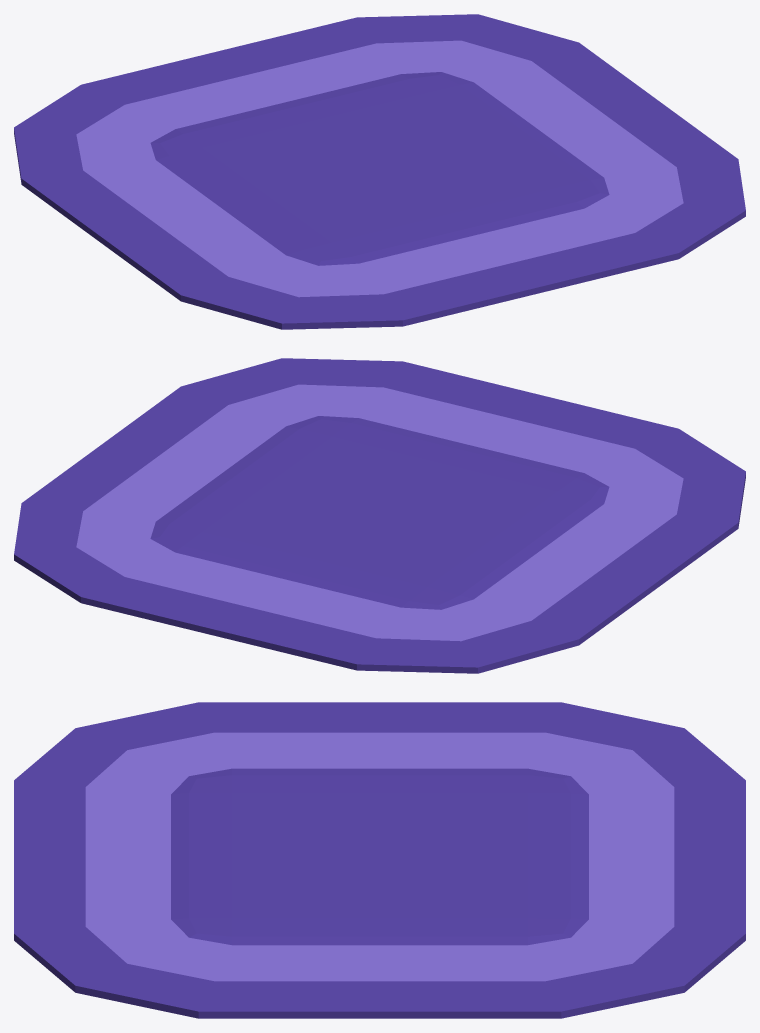
File: Rug_Small.fbx
3 views of the same model, one above another, from view 1: azimuth 30°, elevation 25°; view 2: azimuth 150°, elevation 25°; view 3: azimuth 270°, elevation 25° (orthographic). The views are drawn at different scales.
Parts seen in each view (by area): view 1: Rug_Small; view 2: Rug_Small; view 3: Rug_Small.
Part boxes in pixels (<box>): Rug_Small: <box>14,14,745,329</box>; Rug_Small: <box>14,358,745,673</box>; Rug_Small: <box>14,702,745,1018</box>.
Bounding box in the file's own units: 491 × 7.39 × 491.
